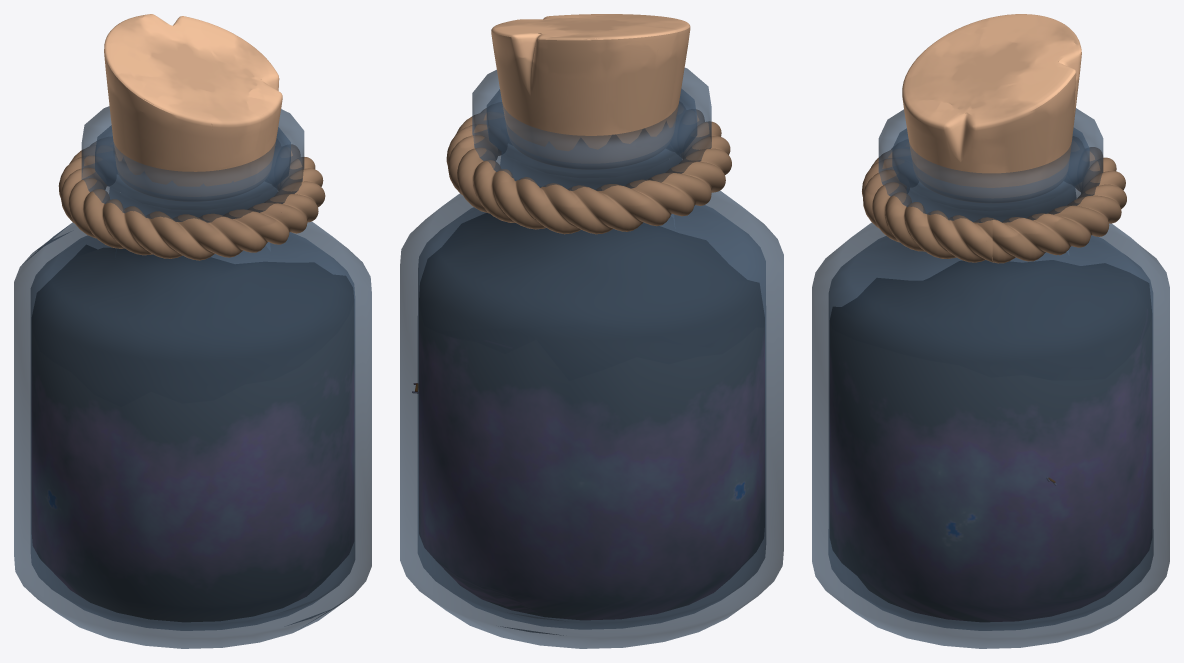
File: train_technic.fbx
3 views of the same model, side by side, from view 1: azimuth 30°, elevation 25°; view 2: azimuth 150°, elevation 25°; view 3: azimuth 270°, elevation 25° (orthographic). The views are drawn at different scales.
Visible parts, largest first — view 1: Bottle, Fluid, cork.001, rope.001; view 2: Bottle, Fluid, cork.001, rope.001; view 3: Bottle, Fluid, cork.001, rope.001.
Boxes of the visible parts, <box> form: Bottle: <box>14,106,371,648</box>; Fluid: <box>32,245,353,621</box>; cork.001: <box>104,14,282,200</box>; rope.001: <box>58,141,325,260</box>; Bottle: <box>400,67,783,648</box>; Fluid: <box>419,213,764,619</box>; cork.001: <box>491,14,690,168</box>; rope.001: <box>446,104,731,234</box>; Bottle: <box>812,108,1169,648</box>; Fluid: <box>830,260,1151,621</box>; cork.001: <box>902,14,1081,202</box>; rope.001: <box>862,140,1126,263</box>.
Bounding box in the file's own units: 2.48 × 4.14 × 2.48.
Materials: 11 (5 with a texture image).
